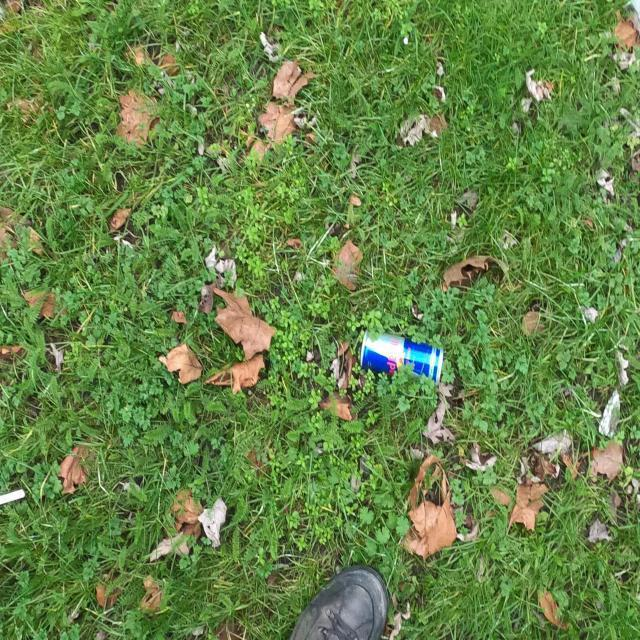Can-Metal: (358, 327, 444, 387)
